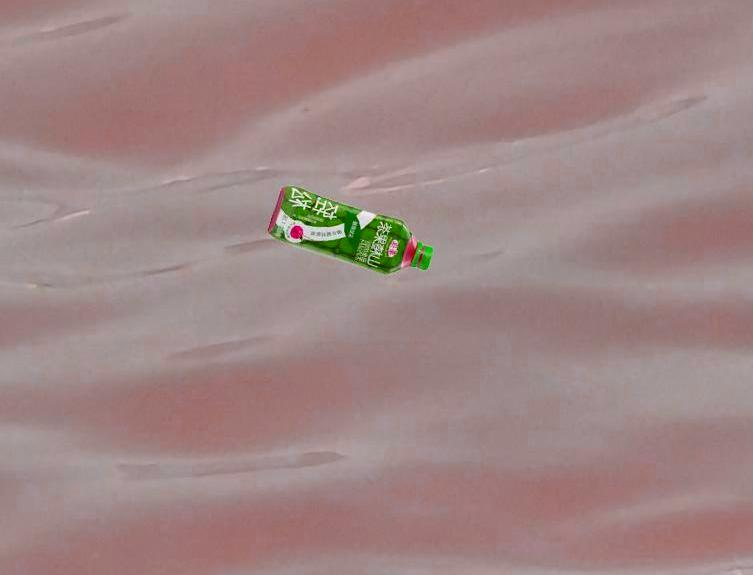Plastic: (270, 180, 438, 281)
